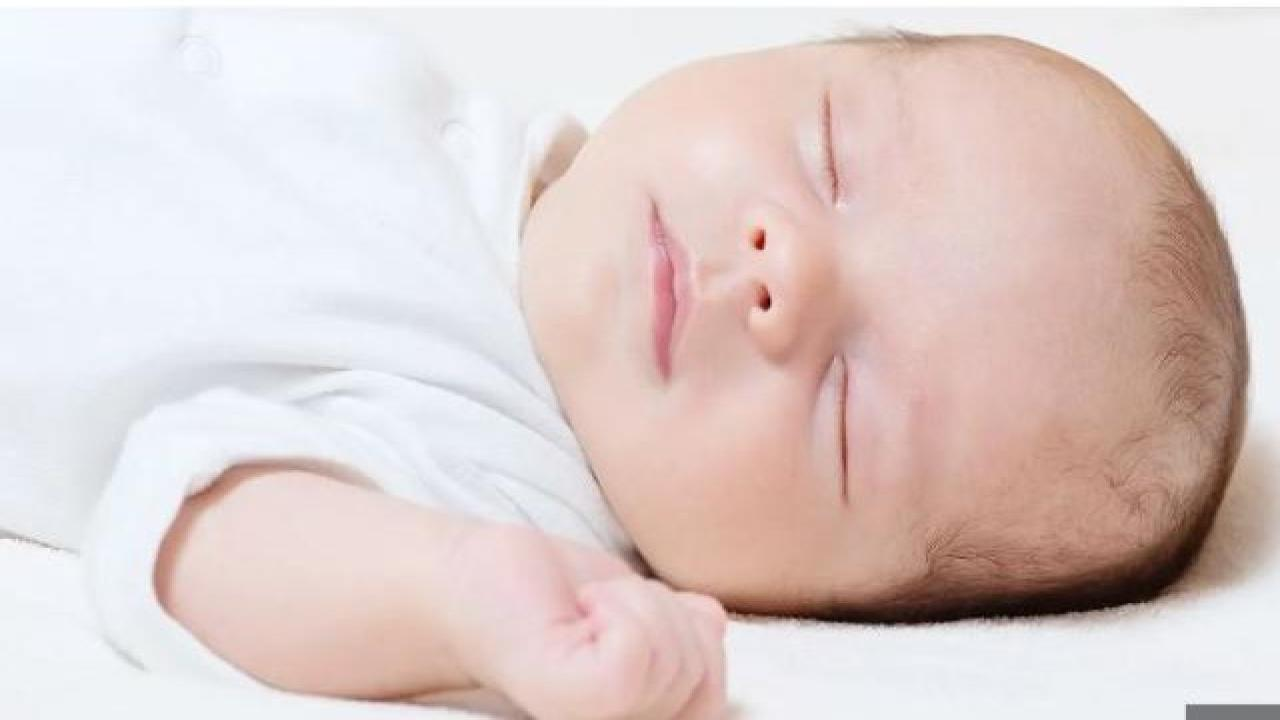hand: (438, 528, 775, 720)
